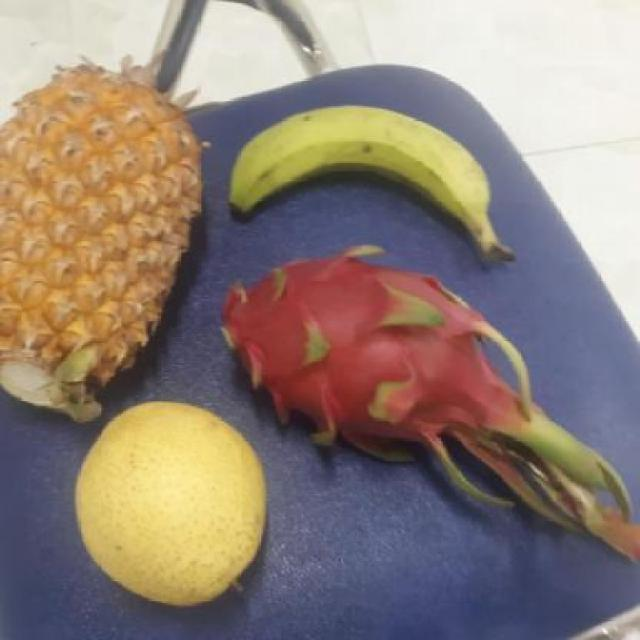banana: (220, 105, 494, 262)
dragon fruit: (192, 249, 511, 457)
pear: (64, 400, 268, 603)
pineapple: (0, 67, 188, 413)
